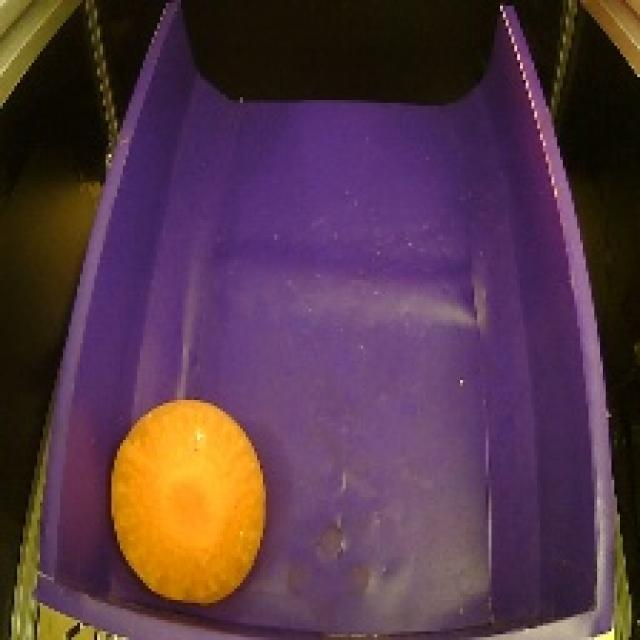carrots: (100, 391, 276, 614)
